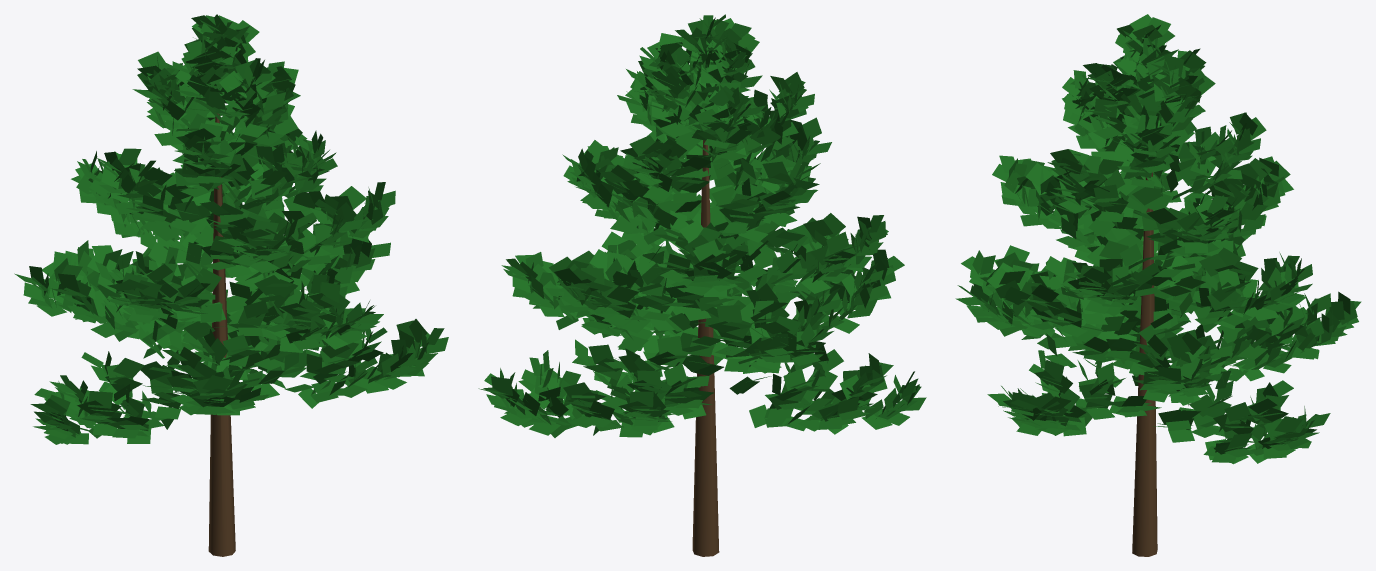
Rendered from mapletree.glb.
3 renders of one model, left to right at view 1: azimuth 30°, elevation 25°; view 2: azimuth 150°, elevation 25°; view 3: azimuth 270°, elevation 25°, orthographic. The views are drawn at different scales.
Visible parts, largest first — view 1: leaves, wood; view 2: leaves, wood; view 3: leaves, wood.
Part boxes in pixels (x1,y1,x2,y2): leaves: (14,14,448,444); wood: (208,113,235,556); leaves: (478,14,926,437); wood: (692,140,719,556); leaves: (955,14,1361,464); wood: (1132,172,1157,556).
Bounding box in the file's own units: 1.81 × 2.44 × 1.7.
